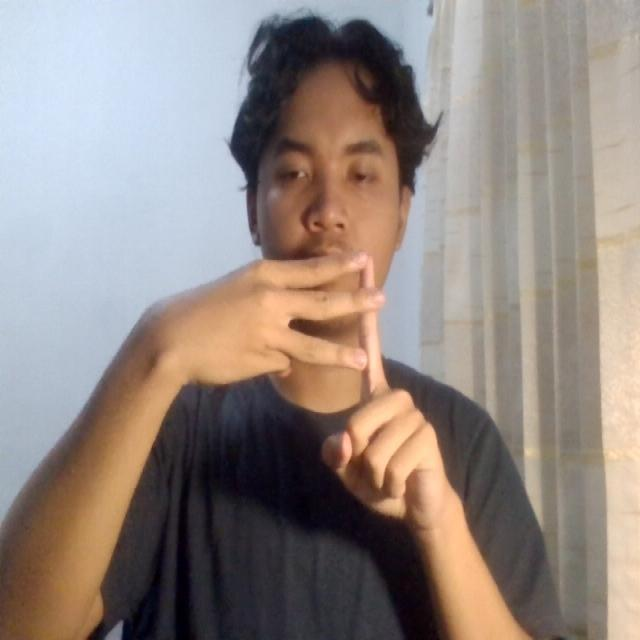B: (162, 230, 466, 554)
